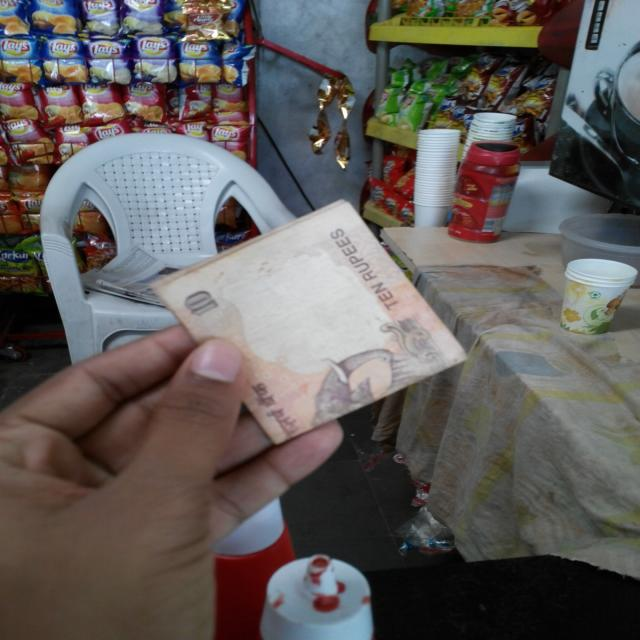10rs: (133, 197, 471, 446)
